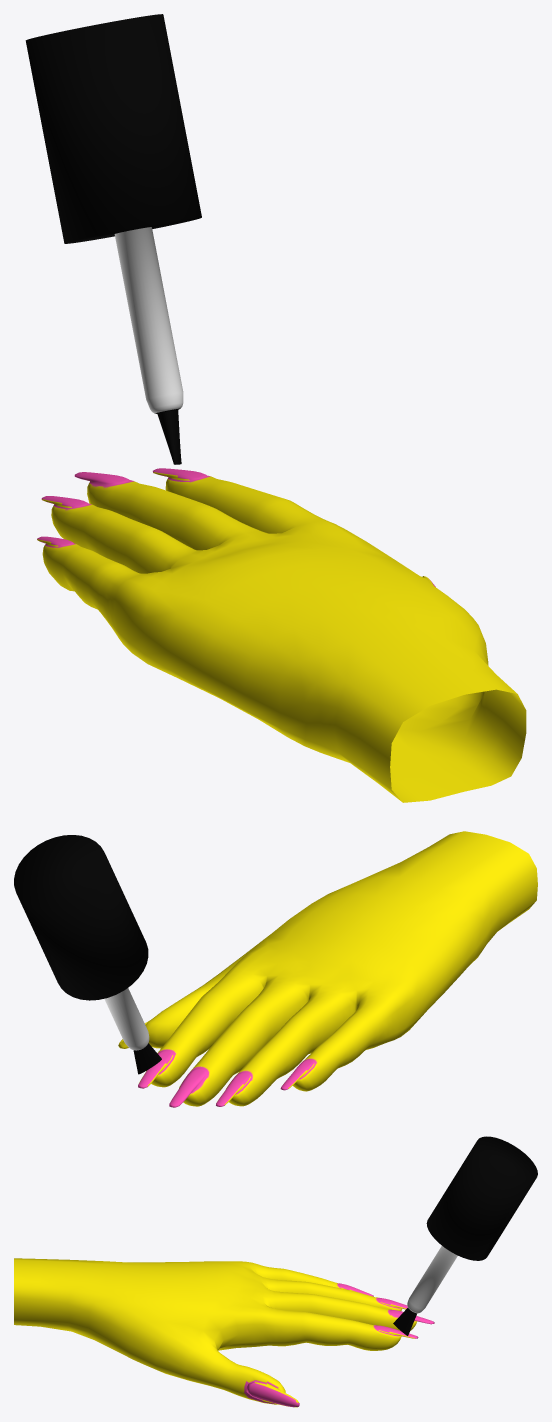
The model's file is nailz.glb.
3 renders of one model, top to bottom at view 1: azimuth 30°, elevation 25°; view 2: azimuth 150°, elevation 25°; view 3: azimuth 270°, elevation 25°, orthographic. The views are drawn at different scales.
Parts seen in each view (by area): view 1: Cube, Object_0, Object_1; view 2: Cube, Object_0, Object_1; view 3: Cube, Object_0, Object_1.
Part boxes in pixels (left/top/right/bottom): Cube: left=37, top=468, right=526, bottom=802; Object_0: left=25, top=14, right=201, bottom=464; Object_1: left=114, top=227, right=183, bottom=413; Cube: left=118, top=831, right=537, bottom=1107; Object_0: left=14, top=835, right=161, bottom=1074; Object_1: left=104, top=988, right=149, bottom=1050; Cube: left=14, top=1258, right=434, bottom=1407; Object_0: left=393, top=1136, right=537, bottom=1335; Object_1: left=407, top=1246, right=457, bottom=1313.
Bounding box in the file's own units: 1.77 × 2.26 × 4.5.
Materials: 3 (1 with a texture image).
